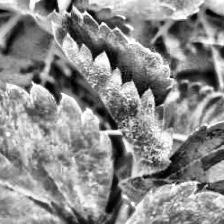Powdery Mildew Leaf: (50, 4, 174, 176)
